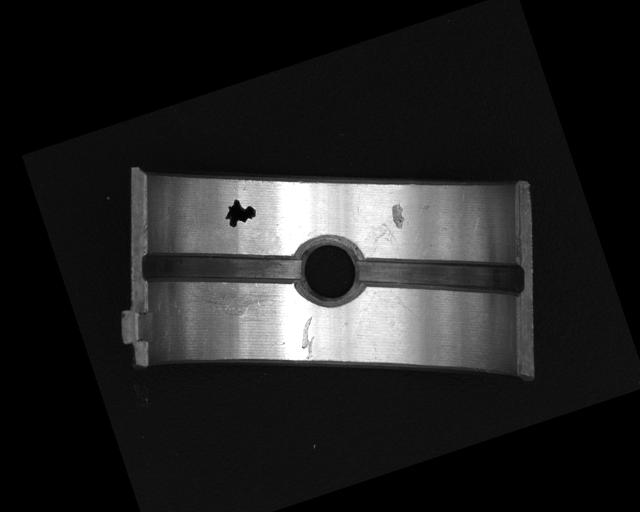blot: (220, 193, 259, 229)
bruise: (388, 201, 409, 230)
gap: (354, 214, 527, 338), (138, 210, 302, 322)
hole: (286, 230, 366, 311)
nick: (292, 315, 325, 361)
scratch: (185, 263, 282, 333)
